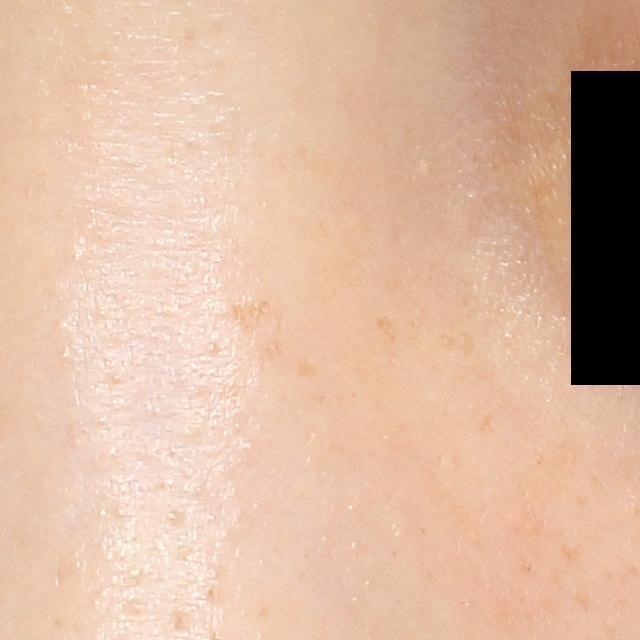melasma: (228, 293, 276, 349), (373, 313, 402, 348), (290, 357, 323, 382), (473, 410, 499, 437)
